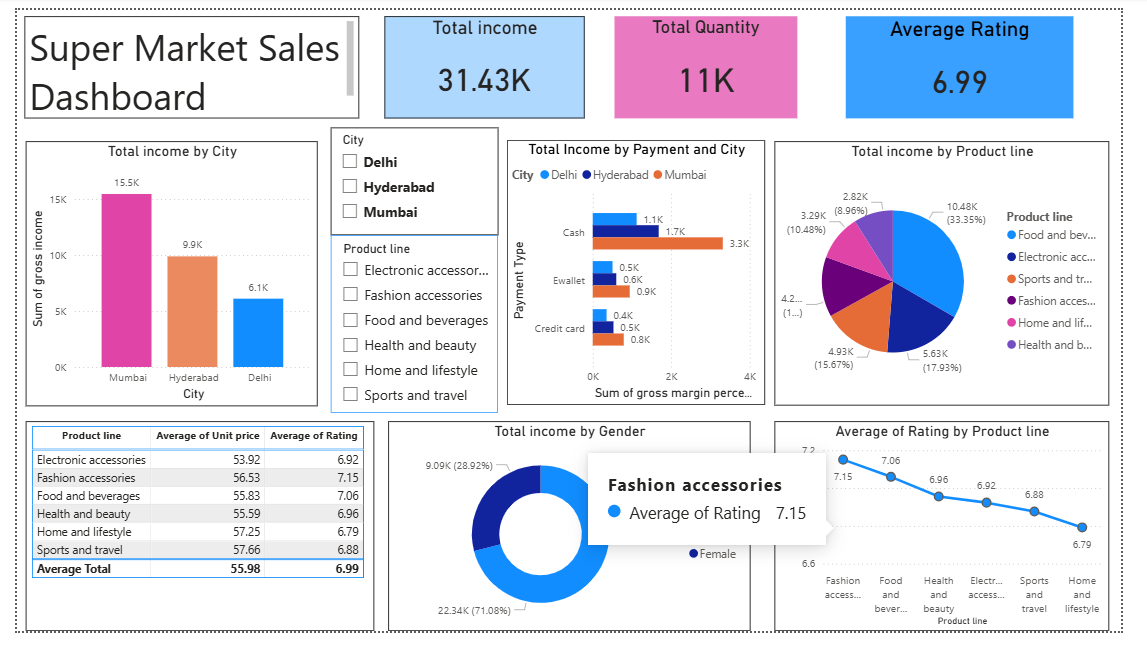

This screenshot's page, from the dashboard's own definition file:
{"tool":"powerbi","page":{"name":"Report","canvas":[1280,720],"ordinal":0},"visuals":[{"type":"textbox","box":[9.2,7.1,387.8,118.4],"z":0},{"type":"card","title":"Total income","fields":{"Values":["Sum(Realmart Sales Dataset.gross income)"]},"box":[425.5,7.1,231.6,118.4],"z":1000},{"type":"card","title":"Total Quantity","fields":{"Values":["Sum(Realmart Sales Dataset.Quantity)"]},"box":[692.9,7.1,212.2,118.4],"z":2000},{"type":"card","title":"Average Rating","fields":{"Values":["Avg(Realmart Sales Dataset.Rating)"]},"box":[960.2,7.1,264.3,118.4],"z":3000},{"type":"columnChart","title":"Total income by City","fields":{"Category":["Realmart Sales Dataset.City"],"Y":["Sum(Realmart Sales Dataset.gross income)"]},"box":[9.8,151.6,338.7,306.9],"z":4000},{"type":"clusteredBarChart","title":"Total Income by Payment and City","fields":{"Category":["Realmart Sales Dataset.Payment"],"Y":["Sum(Realmart Sales Dataset.gross margin percentage)"],"Series":["Realmart Sales Dataset.City"]},"box":[567.4,150.4,299.6,306.9],"z":5000},{"type":"lineChart","fields":{"Category":["Realmart Sales Dataset.Product line"],"Y":["Avg(Realmart Sales Dataset.Rating)"]},"box":[878.3,476.7,388.3,243.3],"z":6000},{"type":"pieChart","title":"Total income by Product line","fields":{"Category":["Realmart Sales Dataset.Product line"],"Y":["Sum(Realmart Sales Dataset.gross income)"]},"box":[878.3,151.7,388.3,306.7],"z":7000},{"type":"donutChart","title":"Total income by Gender","fields":{"Category":["Realmart Sales Dataset.Gender"],"Y":["Sum(Realmart Sales Dataset.gross income)"]},"box":[430,476.7,420,243.3],"z":8000},{"type":"tableEx","fields":{"Values":["Realmart Sales Dataset.Product line","Avg(Realmart Sales Dataset.Unit price)","Avg(Realmart Sales Dataset.Rating)"]},"box":[10,477,404,243],"z":9000},{"type":"slicer","fields":{"Values":["Realmart Sales Dataset.City"]},"box":[364.4,135.7,194.4,124.7],"z":11000},{"type":"slicer","fields":{"Values":["Realmart Sales Dataset.Product line"]},"box":[364.4,260.5,193.2,206.7],"z":12000}]}

Visuals, with their boxes in screenshot pixels (x1, y1, x2, y2), scaled from the page's 1280x720 canvas onto the 1147x662 screenshot:
textbox: [8,7,356,115]
"Total income" card: [381,7,589,115]
"Total Quantity" card: [621,7,811,115]
"Average Rating" card: [860,7,1097,115]
"Total income by City" columnChart: [9,139,312,422]
"Total Income by Payment and City" clusteredBarChart: [508,138,777,420]
lineChart - Realmart Sales Dataset.Product line x Avg(Realmart Sales Dataset.Rating): [787,438,1135,661]
"Total income by Product line" pieChart: [787,139,1135,421]
"Total income by Gender" donutChart: [385,438,762,661]
tableEx - Realmart Sales Dataset.Product line x Avg(Realmart Sales Dataset.Unit price): [9,439,371,661]
slicer - Realmart Sales Dataset.City: [327,125,501,239]
slicer - Realmart Sales Dataset.Product line: [327,240,500,430]
